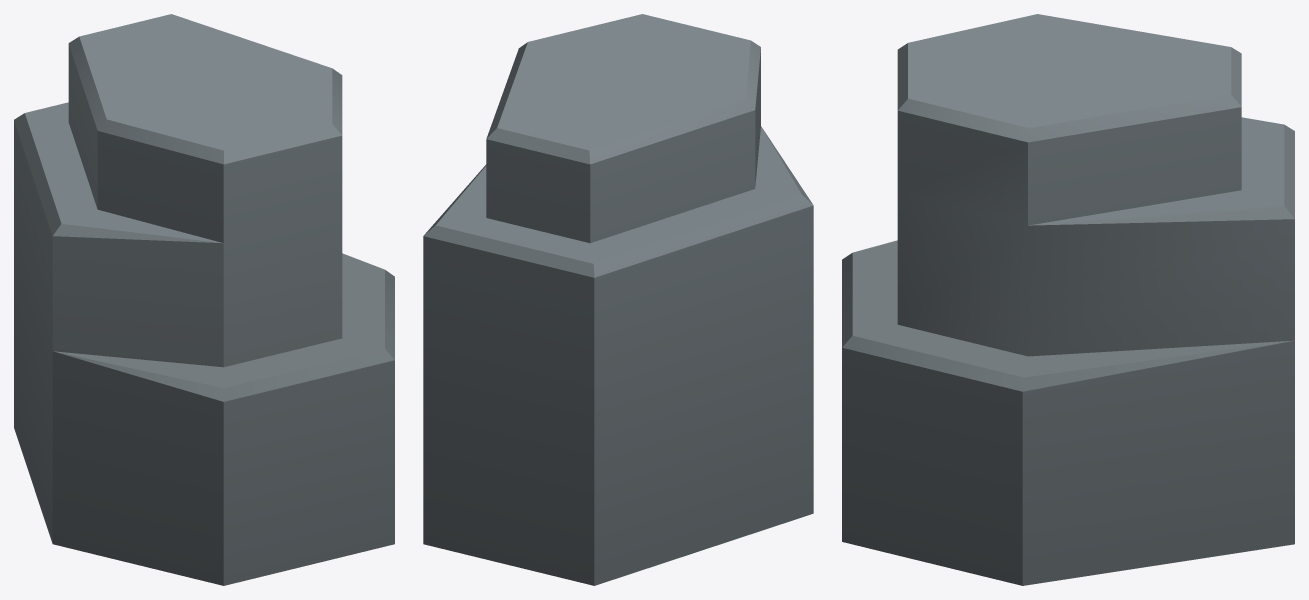
File: rocher-b.glb
3 views of the same model, side by side, from view 1: azimuth 30°, elevation 25°; view 2: azimuth 150°, elevation 25°; view 3: azimuth 270°, elevation 25° (orthographic). The views are drawn at different scales.
Visible parts, largest first — view 1: Rock_1_E_Color1; view 2: Rock_1_E_Color1; view 3: Rock_1_E_Color1.
Boxes of the visible parts, x1,y1,x2,y2 form: Rock_1_E_Color1: [14, 14, 394, 585]; Rock_1_E_Color1: [423, 14, 813, 585]; Rock_1_E_Color1: [842, 14, 1294, 585].
Bounding box in the file's own units: 1 × 1.13 × 1.09.
Materials: 1 (1 with a texture image).
